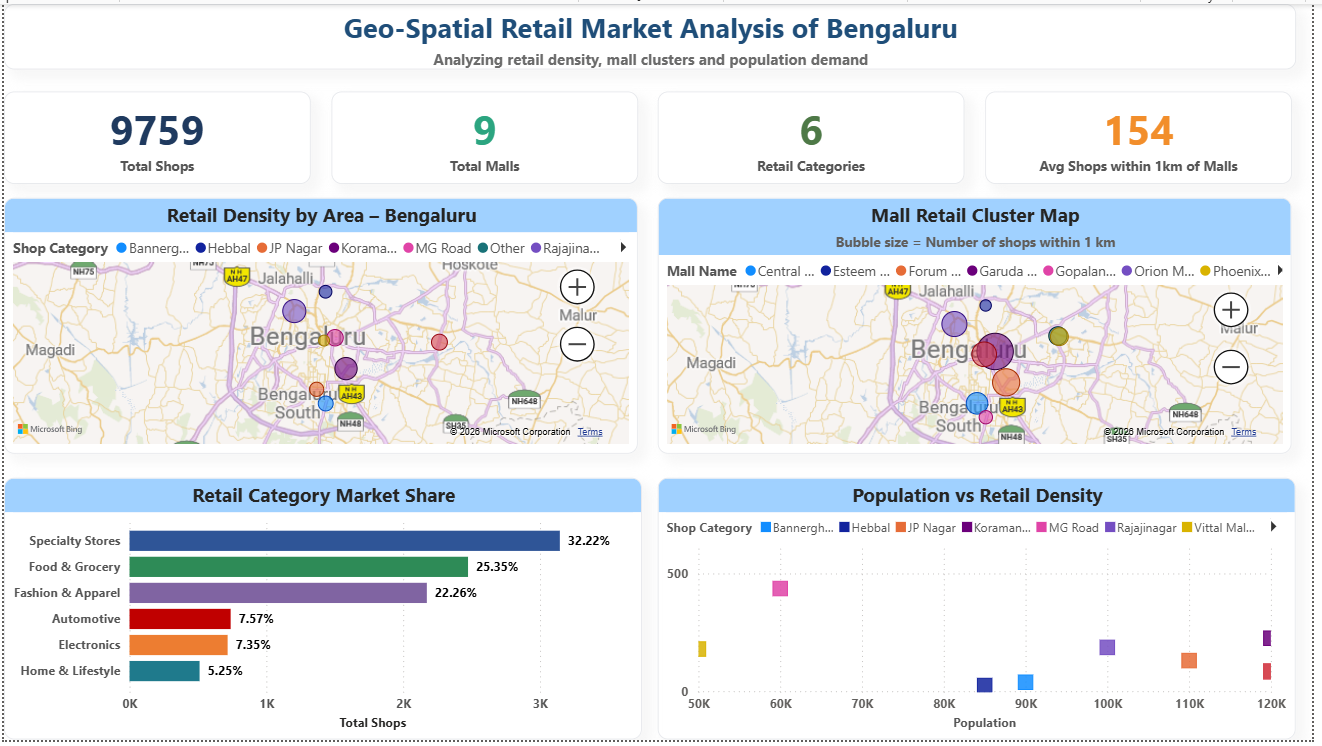

Layout of this report page (visuals, bound fields, positions):
{"tool":"powerbi","page":{"name":"Page 1","canvas":[1280,720],"ordinal":0},"visuals":[{"type":"textbox","box":[10,0,280,280],"z":0},{"type":"textbox","title":"Geo-Spatial Retail Market Analysis of Bengaluru","box":[0,0,1264,64],"z":1000},{"type":"card","fields":{"Values":["Count(shops.id)"]},"box":[0,85,300,90],"z":2000},{"type":"card","fields":{"Values":["CountNonNull(malls.id)"]},"box":[320,85,300,90],"z":3000},{"type":"card","fields":{"Values":["Count(shops.retail_category_group)"]},"box":[640,85,300,90],"z":4000},{"type":"card","fields":{"Values":["Avg(mall_shop_density.shops_within_1km)"]},"box":[960,85,300,90],"z":5000},{"type":"map","title":"Retail Density by Area – Bengaluru","fields":{"Series":["shop_count_Area.area"],"Size":["Sum(shop_count_Area.shop_count)"],"Y":["population.latitude"],"X":["population.longitude"]},"box":[0,190,620,250],"z":6000},{"type":"map","title":"Mall Retail Cluster Map","fields":{"Y":["malls.latitude"],"X":["malls.longitude"],"Size":["Sum(mall_shop_density.shops_within_1km)"],"Series":["malls.mall_name"]},"box":[640,190,620,250],"z":7000},{"type":"barChart","title":"Retail Category Market Share","fields":{"Y":["Sum(shop_category_distribution.total_shops)"],"Category":["shop_category_distribution.retail_category_group"]},"box":[0,464,624,256],"z":8000},{"type":"scatterChart","title":"Population vs Retail Density","fields":{"X":["Sum(population.population)"],"Y":["mall_shop_density.shops_within_1km"],"Series":["population.area"]},"box":[640,464,624,256],"z":9000}]}

Visuals, with their boxes in screenshot pixels (x1, y1, x2, y2), scaled from the page's 1280x720 canvas onto the 1322x746 screenshot:
textbox: x1=10 y1=0 x2=300 y2=290
"Geo-Spatial Retail Market Analysis of Bengaluru" textbox: x1=0 y1=0 x2=1305 y2=66
card - Count(shops.id): x1=0 y1=88 x2=310 y2=181
card - CountNonNull(malls.id): x1=330 y1=88 x2=640 y2=181
card - Count(shops.retail_category_group): x1=661 y1=88 x2=971 y2=181
card - Avg(mall_shop_density.shops_within_1km): x1=991 y1=88 x2=1301 y2=181
"Retail Density by Area – Bengaluru" map: x1=0 y1=197 x2=640 y2=456
"Mall Retail Cluster Map" map: x1=661 y1=197 x2=1301 y2=456
"Retail Category Market Share" barChart: x1=0 y1=481 x2=644 y2=745
"Population vs Retail Density" scatterChart: x1=661 y1=481 x2=1305 y2=745
